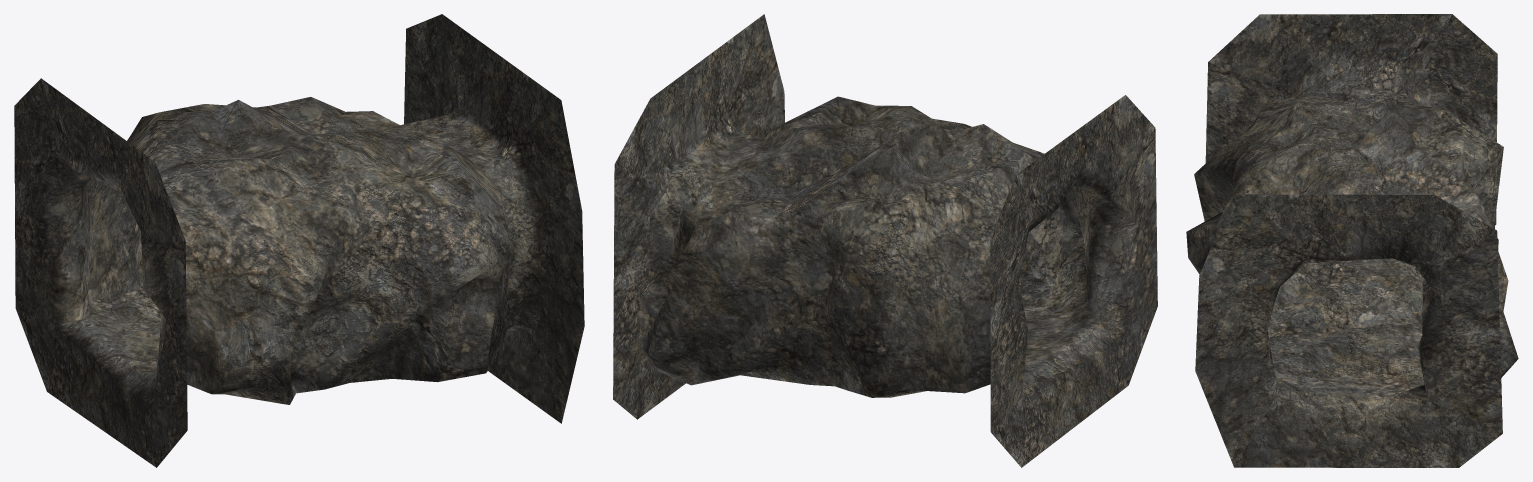
The model's file is Module7_LOD1.fbx.
3 views of the same model, side by side, from view 1: azimuth 30°, elevation 25°; view 2: azimuth 150°, elevation 25°; view 3: azimuth 270°, elevation 25° (orthographic). The views are drawn at different scales.
Parts seen in each view (by area): view 1: cave_el7_800_Group27226; view 2: cave_el7_800_Group27226; view 3: cave_el7_800_Group27226.
Boxes of the visible parts, x1,y1,x2,y2 form: cave_el7_800_Group27226: (14, 14, 584, 467); cave_el7_800_Group27226: (613, 14, 1157, 467); cave_el7_800_Group27226: (1186, 14, 1518, 467).
Size of the model in its own units: 10.53 by 8.57 by 8.8.
